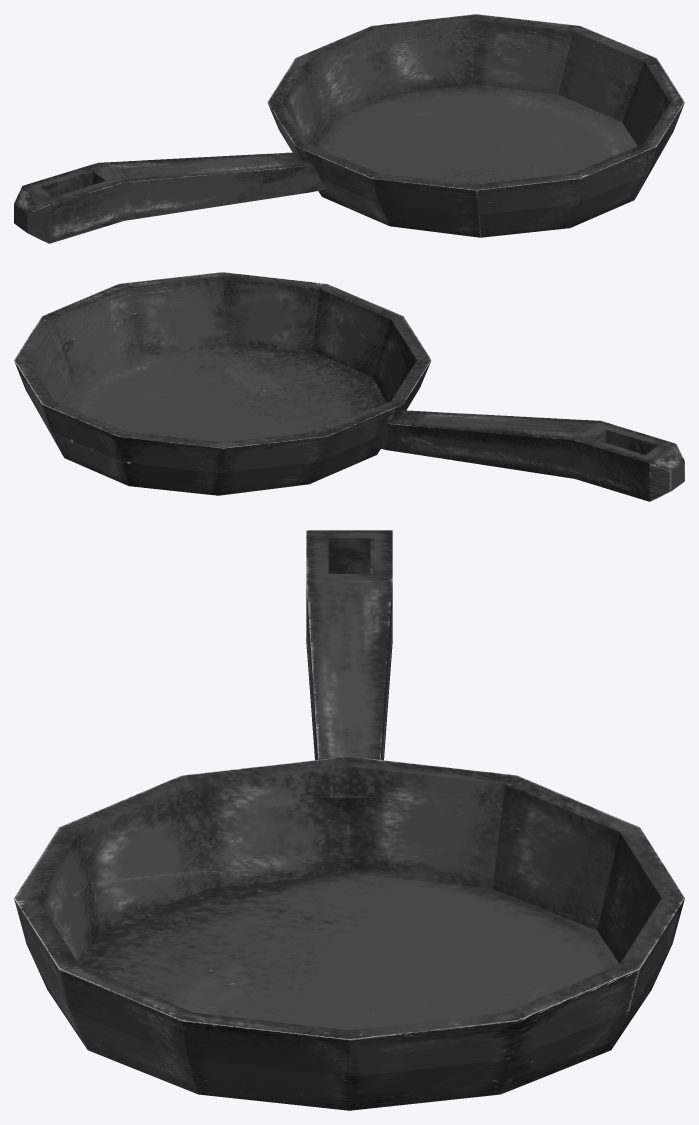
Rendered from sarten_para_texturizar_.obj.
3 views of the same model, one above another, from view 1: azimuth 30°, elevation 25°; view 2: azimuth 150°, elevation 25°; view 3: azimuth 270°, elevation 25° (orthographic). The views are drawn at different scales.
Parts seen in each view (by area): view 1: Cylinder; view 2: Cylinder; view 3: Cylinder.
Part boxes in pixels (x1,y1,x2,y2): Cylinder: [14, 14, 684, 243]; Cylinder: [14, 272, 684, 501]; Cylinder: [14, 530, 684, 1110].
Bounding box in the file's own units: 3.78 × 0.4343 × 2.15.
Materials: 1 (1 with a texture image).
